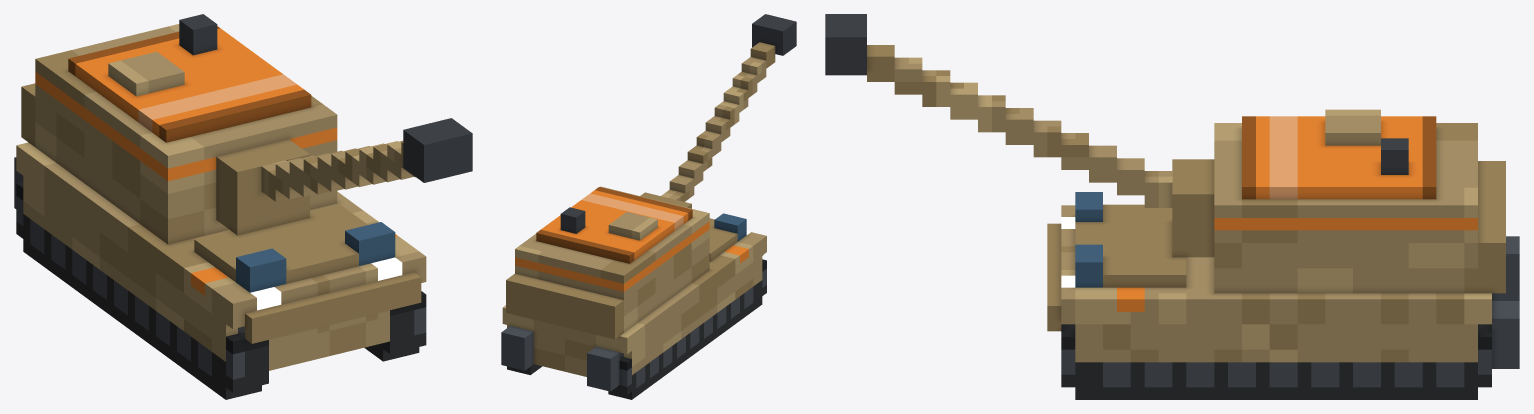
Rendered from cm_artillery_5.glb.
3 views of the same model, side by side, from view 1: azimuth 30°, elevation 25°; view 2: azimuth 150°, elevation 25°; view 3: azimuth 270°, elevation 25° (orthographic). The views are drawn at different scales.
Parts seen in each view (by area): view 1: cm_artillery_5_body; view 2: cm_artillery_5_body; view 3: cm_artillery_5_body.
Boxes of the visible parts, x1,y1,x2,y2 form: cm_artillery_5_body: (14,14,472,399); cm_artillery_5_body: (501,14,796,399); cm_artillery_5_body: (825,14,1519,399).
Bounding box in the file's own units: 1 × 1.62 × 3.12.
Materials: 1 (1 with a texture image).
